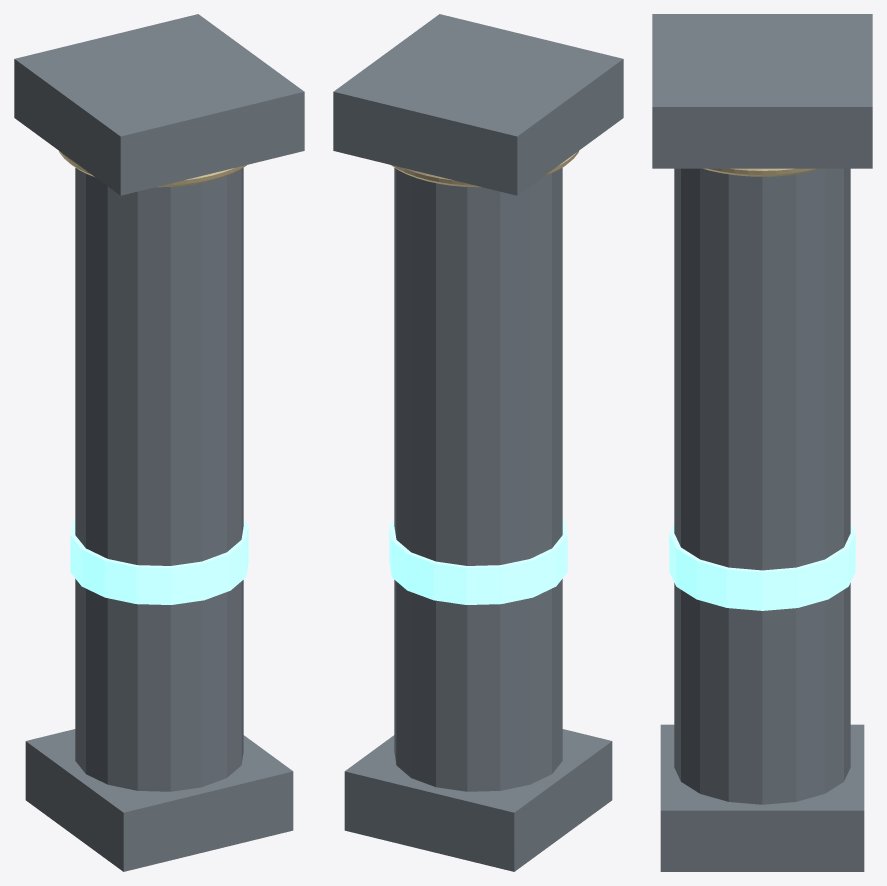
Rendered from modular_pillar_fluted.glb.
3 views of the same model, side by side, from view 1: azimuth 30°, elevation 25°; view 2: azimuth 150°, elevation 25°; view 3: azimuth 270°, elevation 25° (orthographic). The views are drawn at different scales.
Parts seen in each view (by area): view 1: Arch_Pillar_Fluted; view 2: Arch_Pillar_Fluted; view 3: Arch_Pillar_Fluted.
Boxes of the visible parts, x1,y1,x2,y2 form: Arch_Pillar_Fluted: (14, 14, 304, 871); Arch_Pillar_Fluted: (333, 14, 623, 871); Arch_Pillar_Fluted: (652, 14, 872, 871).
Size of the model in its own units: 1.3 by 5 by 1.3.
